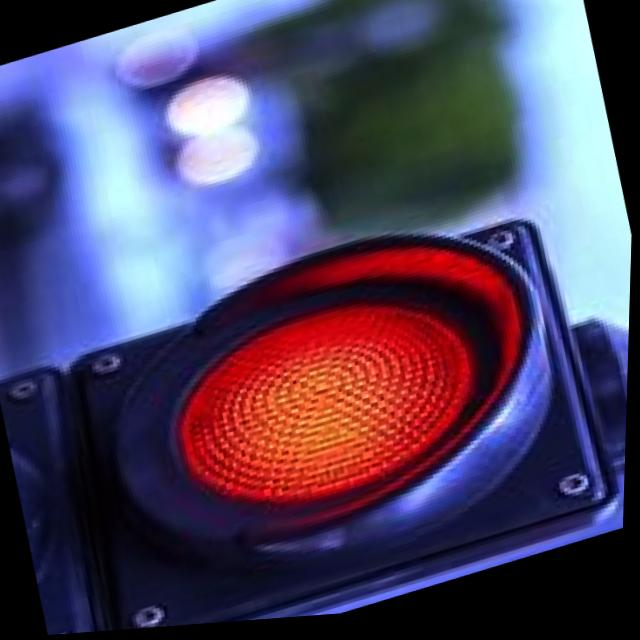red_light: (28, 162, 629, 637)
